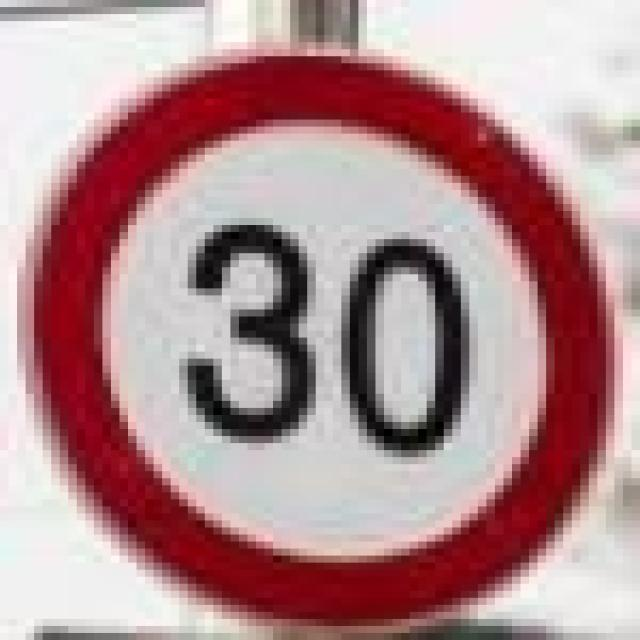speed_limit_30: (17, 49, 606, 619)
